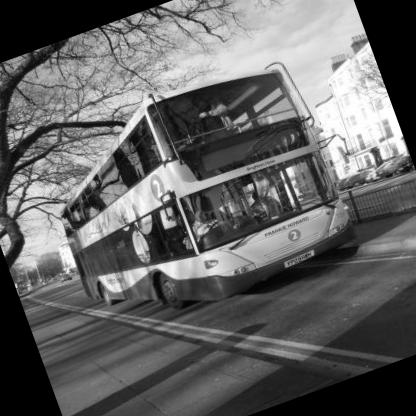bus: (12, 42, 385, 370)
